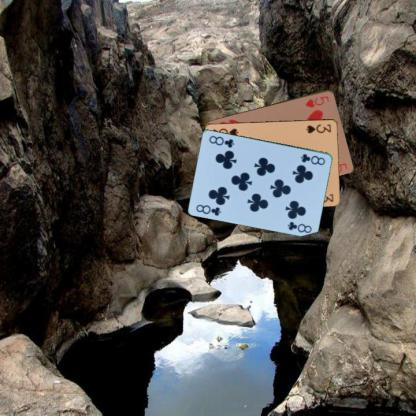3s: (303, 121, 332, 134)
5h: (303, 93, 330, 109)
8c: (298, 151, 327, 166), (194, 202, 223, 216)
